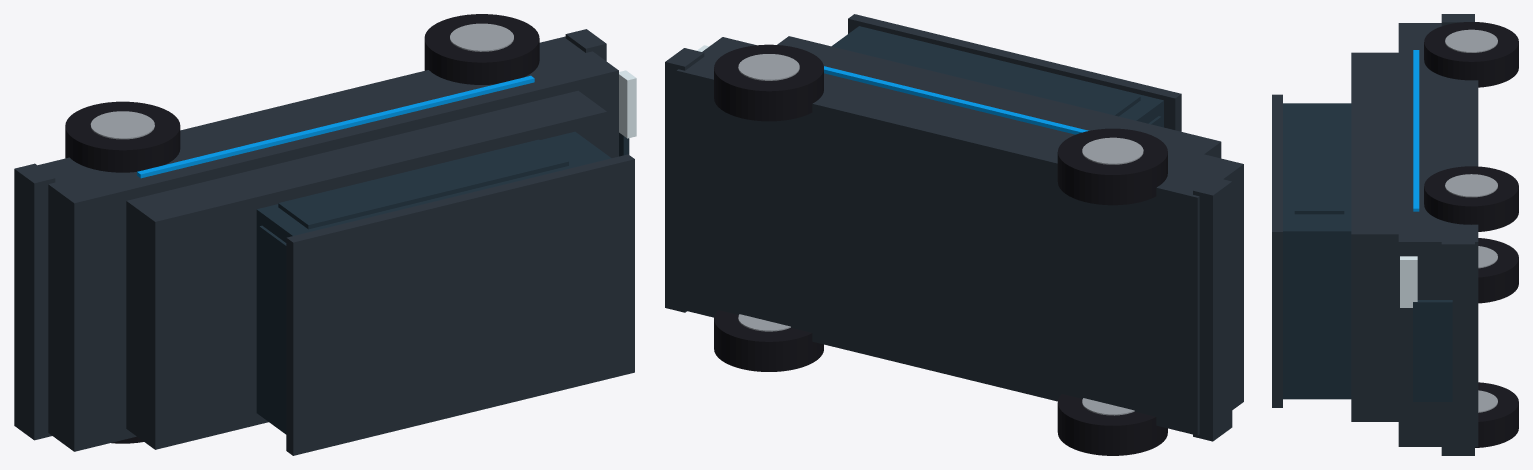
Rendered from carekar_premium_suv.glb.
The picture shows the model from 3 angles, left to right: view 1: azimuth 30°, elevation 25°; view 2: azimuth 150°, elevation 25°; view 3: azimuth 270°, elevation 25°; orthographic projection. The views are drawn at different scales.
Parts seen in each view (by area): view 1: Roof, Upper Body, Lower Body, world, Rear Bumper, Side Window, Rear Glass, Cabin, Blue Side Accent R, LED Headlight, Front Bumper; view 2: Lower Body, world, Rear Bumper, Upper Body, Side Window, Roof, Front Bumper, Cabin, Blue Side Accent R; view 3: Upper Body, Lower Body, Cabin, world, Front Bumper, Side Window, Front Grille, Roof, Blue Side Accent R, LED Headlight, Rear Bumper.
Boxes of the visible parts, bbox=[...] form: Roof: bbox=[286, 154, 634, 455]; Upper Body: bbox=[126, 90, 606, 449]; Lower Body: bbox=[38, 36, 618, 451]; world: bbox=[65, 14, 539, 443]; Rear Bumper: bbox=[14, 163, 55, 440]; Side Window: bbox=[278, 139, 568, 229]; Rear Glass: bbox=[259, 225, 286, 424]; Cabin: bbox=[256, 131, 611, 434]; Blue Side Accent R: bbox=[137, 75, 534, 178]; LED Headlight: bbox=[619, 70, 636, 138]; Front Bumper: bbox=[565, 29, 606, 60]; Lower Body: bbox=[676, 37, 1243, 435]; world: bbox=[714, 44, 1167, 455]; Rear Bumper: bbox=[1193, 176, 1232, 441]; Upper Body: bbox=[777, 36, 1221, 158]; Side Window: bbox=[865, 35, 1140, 116]; Roof: bbox=[848, 14, 1181, 131]; Front Bumper: bbox=[665, 48, 704, 312]; Cabin: bbox=[831, 26, 1163, 127]; Blue Side Accent R: bbox=[824, 66, 1088, 134]; Upper Body: bbox=[1351, 52, 1398, 421]; Lower Body: bbox=[1398, 23, 1478, 446]; Cabin: bbox=[1283, 103, 1351, 399]; world: bbox=[1424, 22, 1518, 447]; Front Bumper: bbox=[1441, 235, 1474, 455]; Side Window: bbox=[1294, 106, 1344, 214]; Front Grille: bbox=[1413, 300, 1452, 401]; Roof: bbox=[1272, 94, 1282, 407]; Blue Side Accent R: bbox=[1413, 50, 1419, 211]; LED Headlight: bbox=[1400, 256, 1417, 307]; Rear Bumper: bbox=[1441, 14, 1474, 25].
Size of the model in its own units: 4.99 by 2.44 by 2.24.
